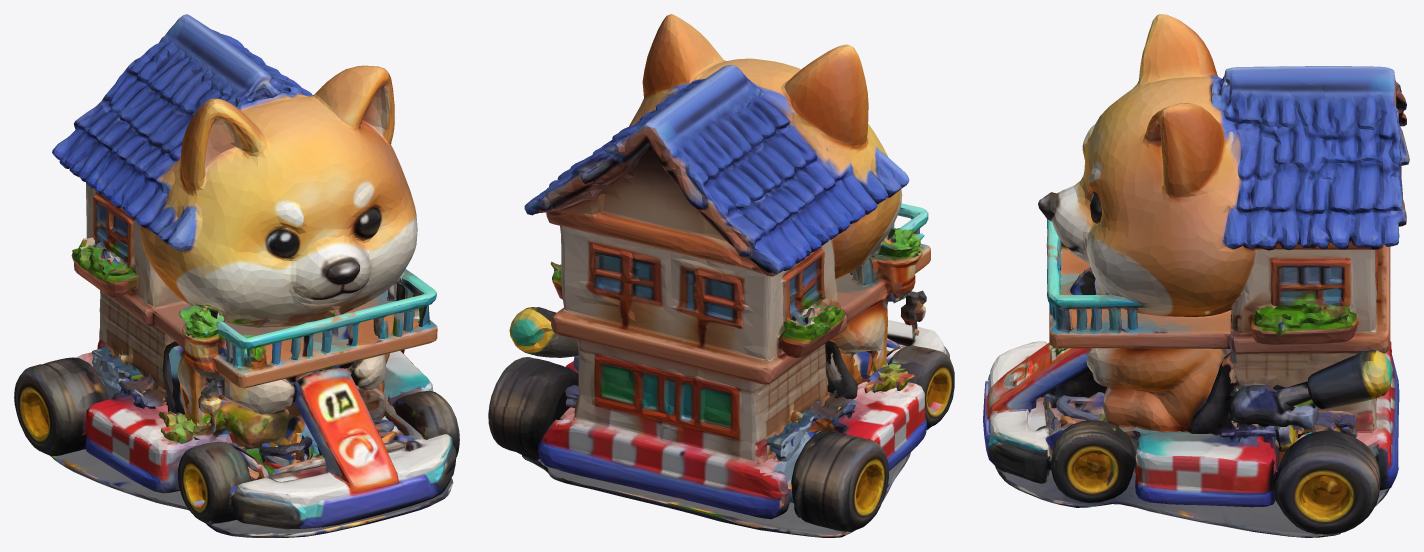
Rendered from house_b.glb.
3 renders of one model, left to right at view 1: azimuth 30°, elevation 25°; view 2: azimuth 150°, elevation 25°; view 3: azimuth 270°, elevation 25°, orthographic. The views are drawn at different scales.
Visible parts, largest first — view 1: temp_mesh.ply; view 2: temp_mesh.ply; view 3: temp_mesh.ply.
Part boxes in pixels (x1=…): temp_mesh.ply: x1=14, y1=14, x2=459, y2=537; temp_mesh.ply: x1=488, y1=14, x2=954, y2=537; temp_mesh.ply: x1=983, y1=14, x2=1409, y2=537.
Size of the model in its own units: 1.84 by 1.97 by 1.87.
Materials: 1 (1 with a texture image).
